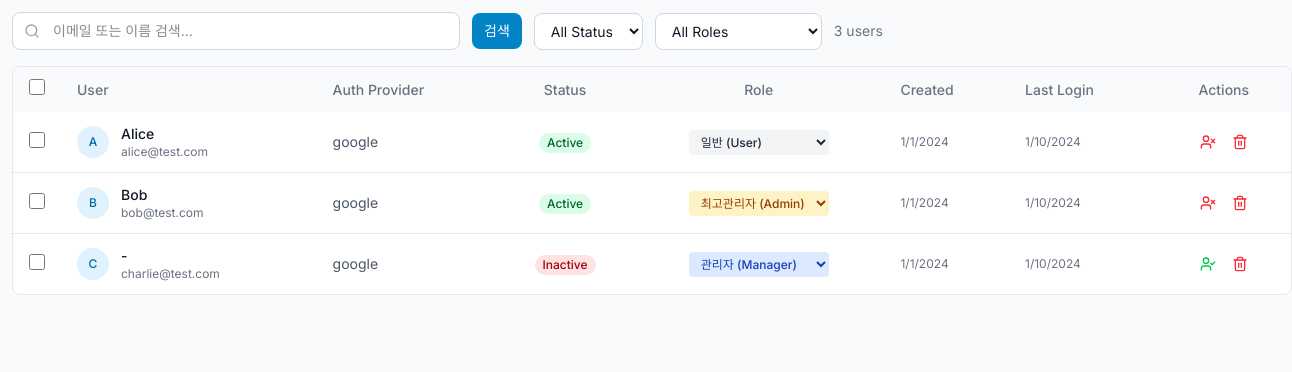
Test case: UserManagementTab › shows error when role change fails
Select "최고관리자 (Admin)" in the dropdown showing "일반 (User)" in the row of "alice@test.com": (759, 142) [689,130,829,154]
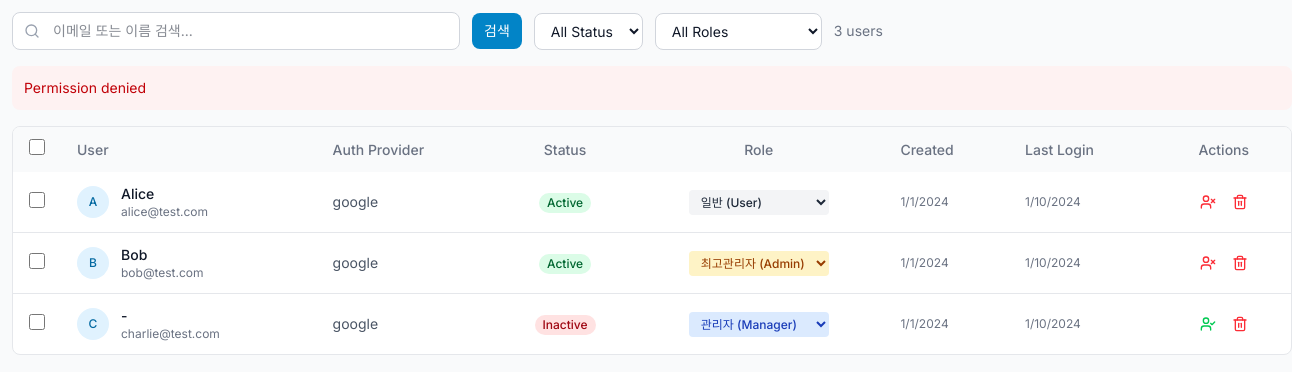
Result: the text "Permission denied" is shown at [12,66,1291,110]
